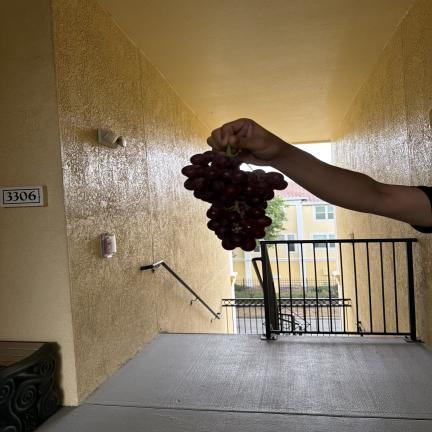grape_cluster: (181, 144, 287, 251)
